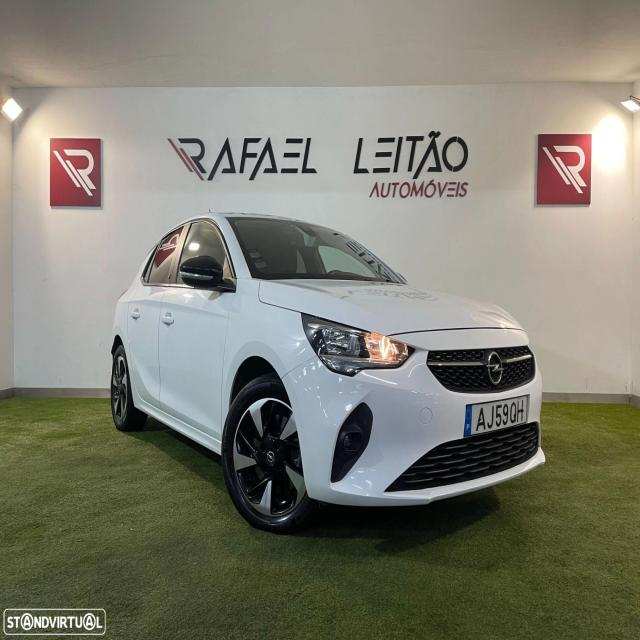portuguese-license-plates: (463, 395, 529, 437)
